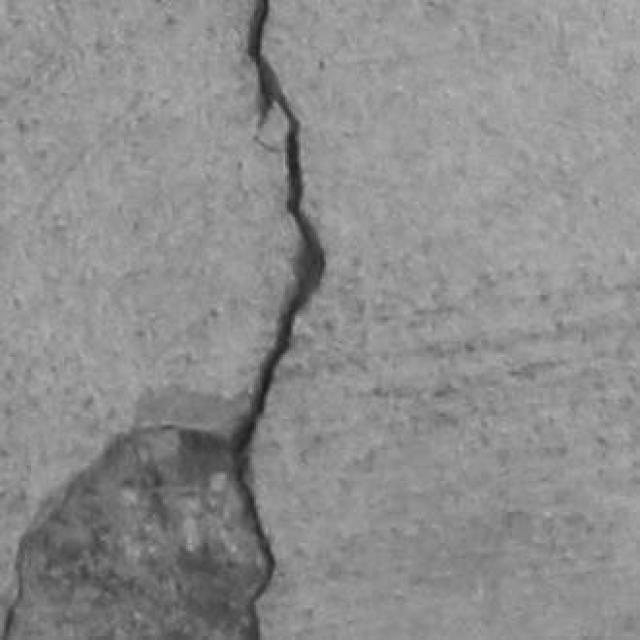crack: (212, 0, 325, 639), (233, 0, 325, 469)
